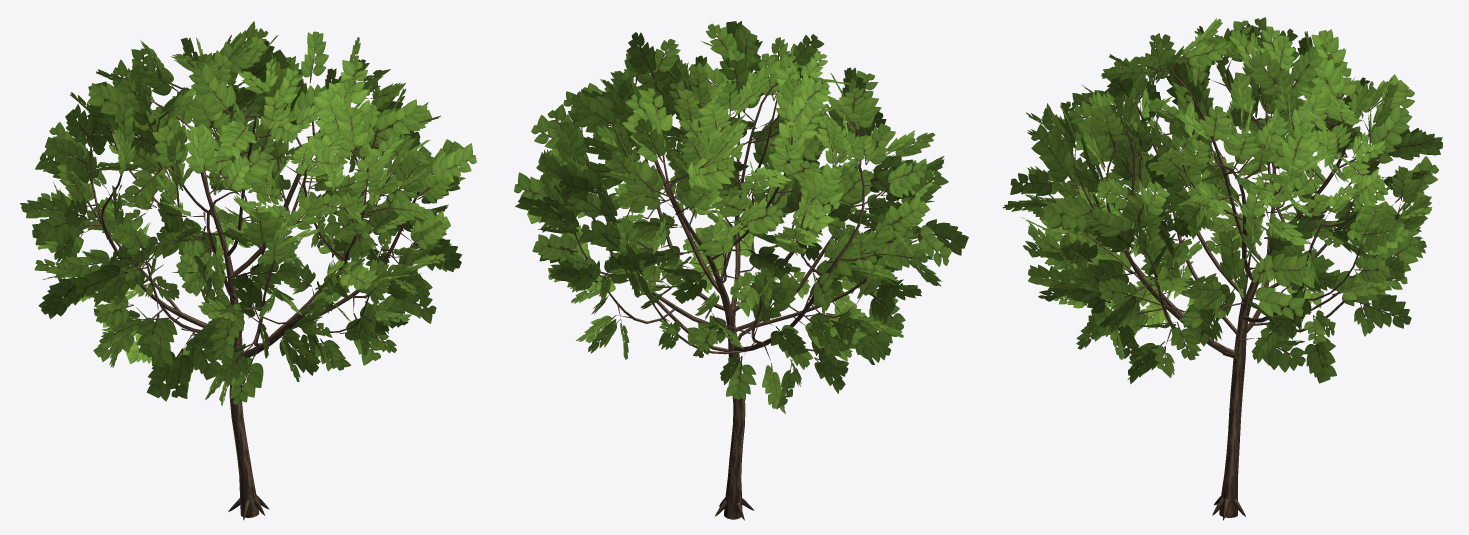
Rendered from tree-oak-a.glb.
3 renders of one model, left to right at view 1: azimuth 30°, elevation 25°; view 2: azimuth 150°, elevation 25°; view 3: azimuth 270°, elevation 25°, orthographic.
Visible parts, largest first — view 1: Tree_Oak_A; view 2: Tree_Oak_A; view 3: Tree_Oak_A.
Part boxes in pixels (box(x1,y1,x2,y2)): Tree_Oak_A: box(20, 21, 476, 520); Tree_Oak_A: box(514, 21, 968, 520); Tree_Oak_A: box(1002, 17, 1442, 520).
Bounding box in the file's own units: 10.33 × 11.82 × 10.03.
2 materials, 2 textured.
